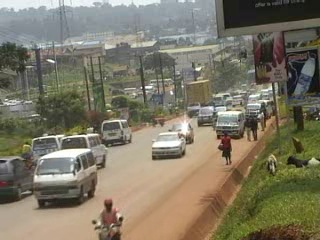Car: (0, 153, 36, 202), (149, 131, 187, 161), (168, 121, 195, 145), (185, 103, 203, 117), (212, 104, 227, 117)
Motorcycle: (90, 194, 124, 239), (152, 109, 168, 126), (208, 109, 219, 131)
